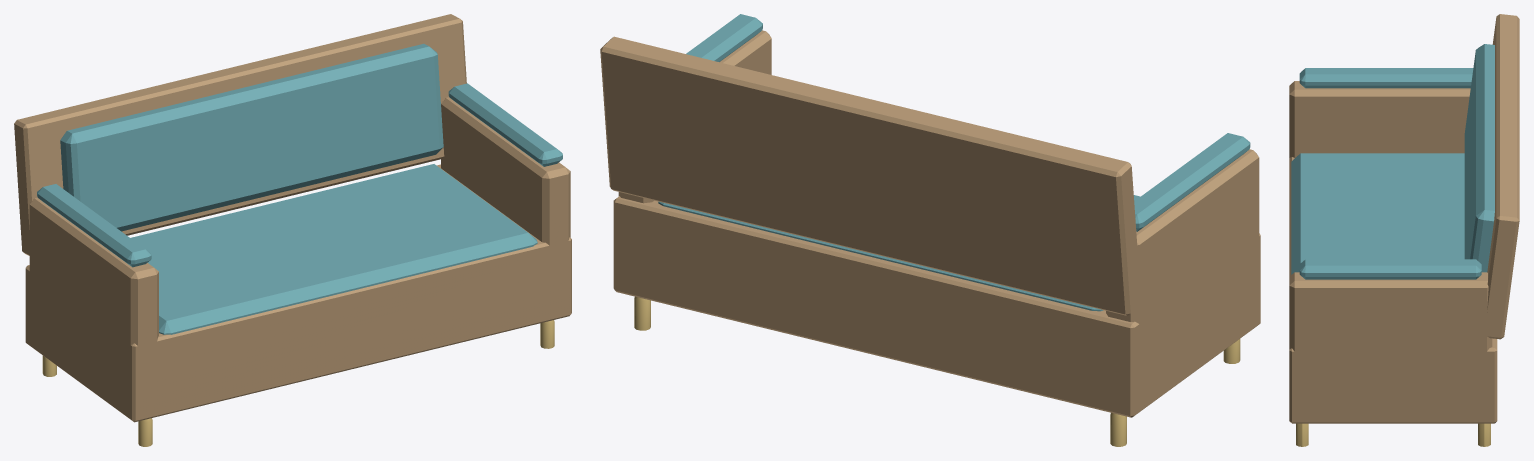
File: escape-room-and-puzzle-venue-waiting-sofa-366ba21f__35805.glb
The picture shows the model from 3 angles, left to right: view 1: azimuth 30°, elevation 25°; view 2: azimuth 150°, elevation 25°; view 3: azimuth 270°, elevation 25°; orthographic projection. The views are drawn at different scales.
Visible parts, largest first — view 1: waiting-sofa; view 2: waiting-sofa; view 3: waiting-sofa.
Part boxes in pixels (<box>): waiting-sofa: <box>14,14,571,446</box>; waiting-sofa: <box>600,14,1260,446</box>; waiting-sofa: <box>1289,14,1519,446</box>.
Bounding box in the file's own units: 1.86 × 1 × 0.8854.
